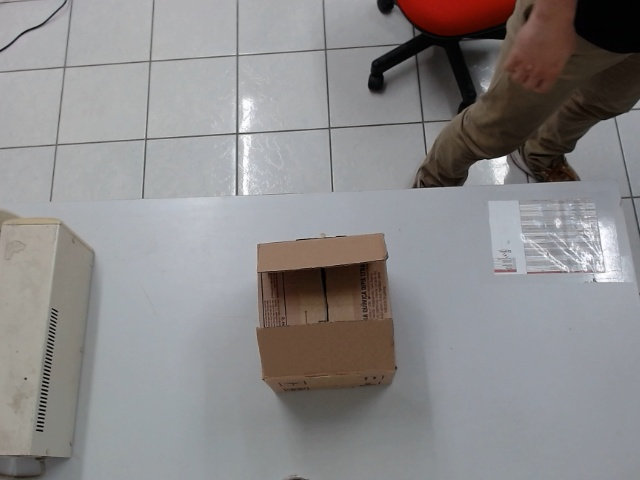caixa_principal: (252, 231, 403, 393)
